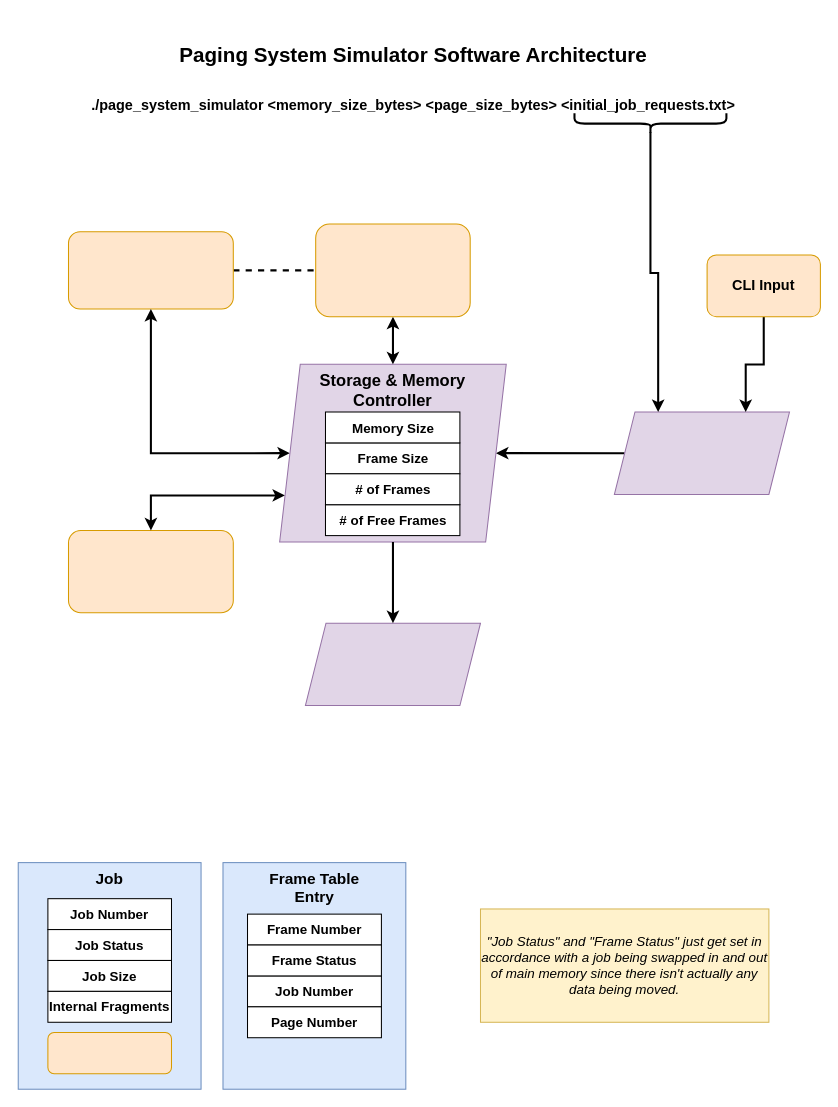
Some shapes in this 838 by 1107 pixel diagram are drawn without their labels. Here are the shapes that lost their labels. From the top down, the centre of each, then its label:
At (x=150, y=270): "Resident Job FIFO (Queue of Job Numbers)".
At (x=392, y=270): "Frame Table (Fixed Array of Entries)".
At (x=701, y=452): "Command Parser".
At (x=150, y=571): "Job List (Linked List of Jobs)".
At (x=392, y=664): "Error Handler".
At (x=109, y=1053): "Page Table".
